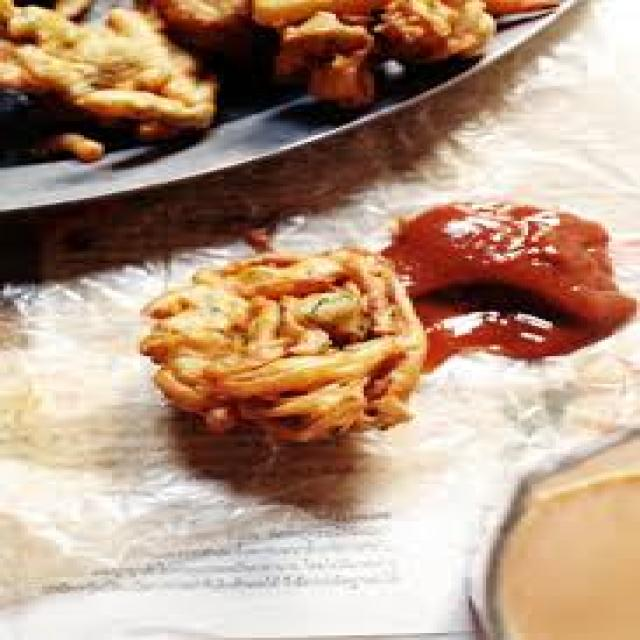BAJI: (140, 249, 423, 440)
